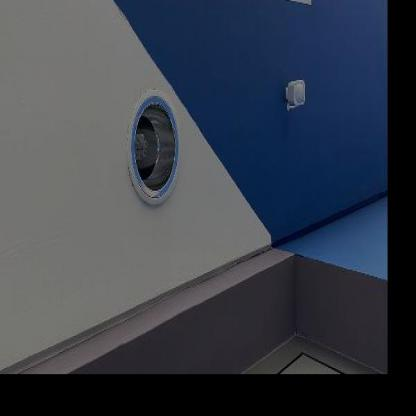light_off: (117, 65, 181, 216)
